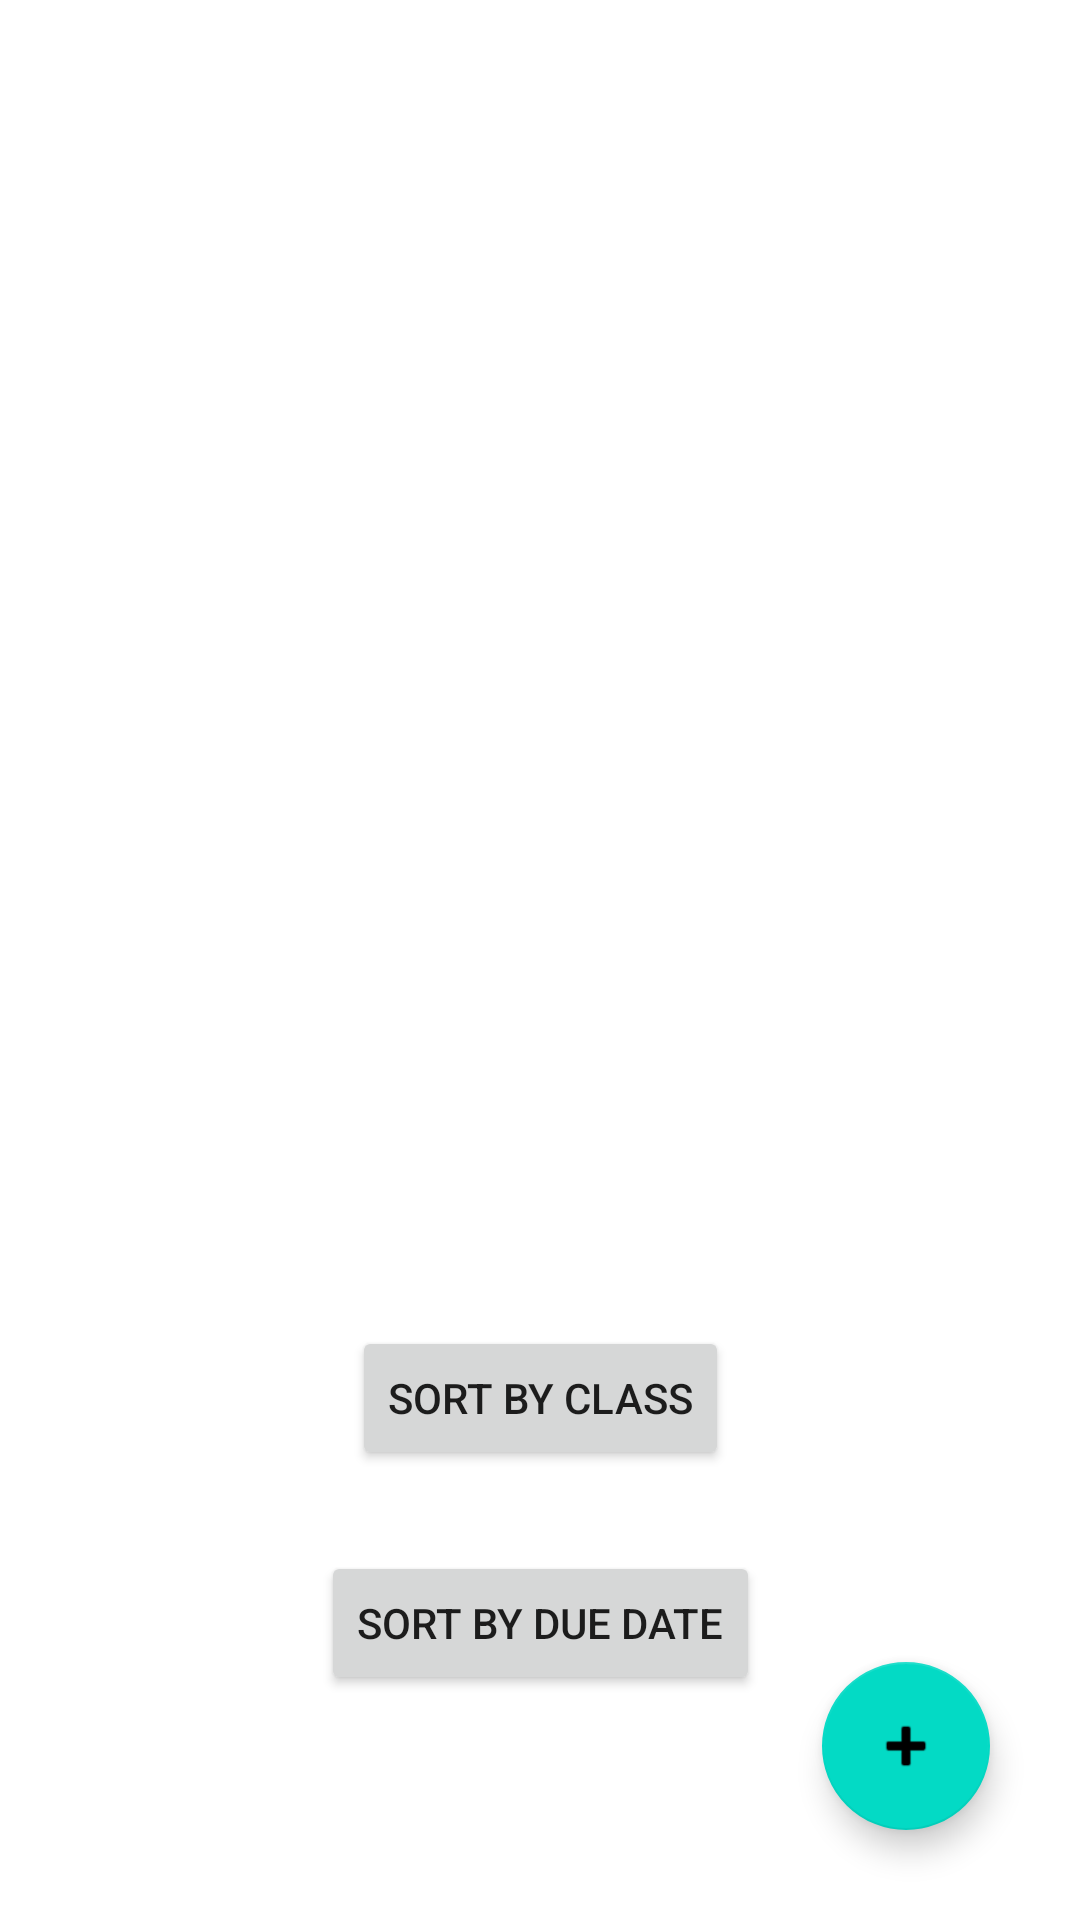

Point at icon controls on the screen. Image size 1080 × 1920, points as (x,y).
add: (906,1746)
